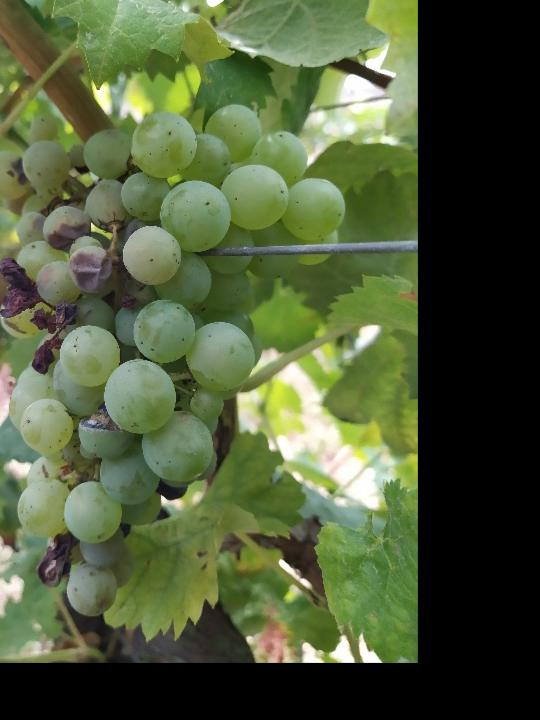grape: (0, 103, 350, 621)
